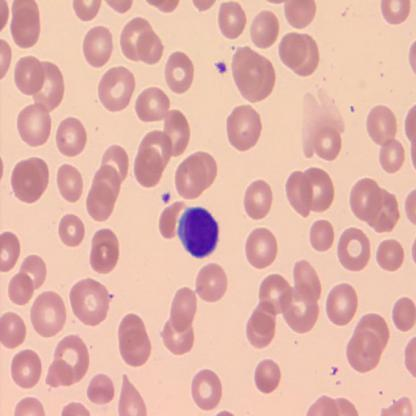Lymphocyte: (177, 205, 219, 260)
